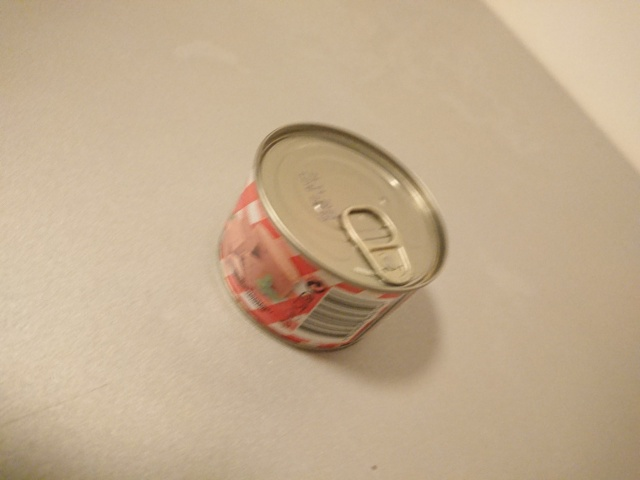Podravka Luncheon Meat 150g: (215, 118, 452, 356)
